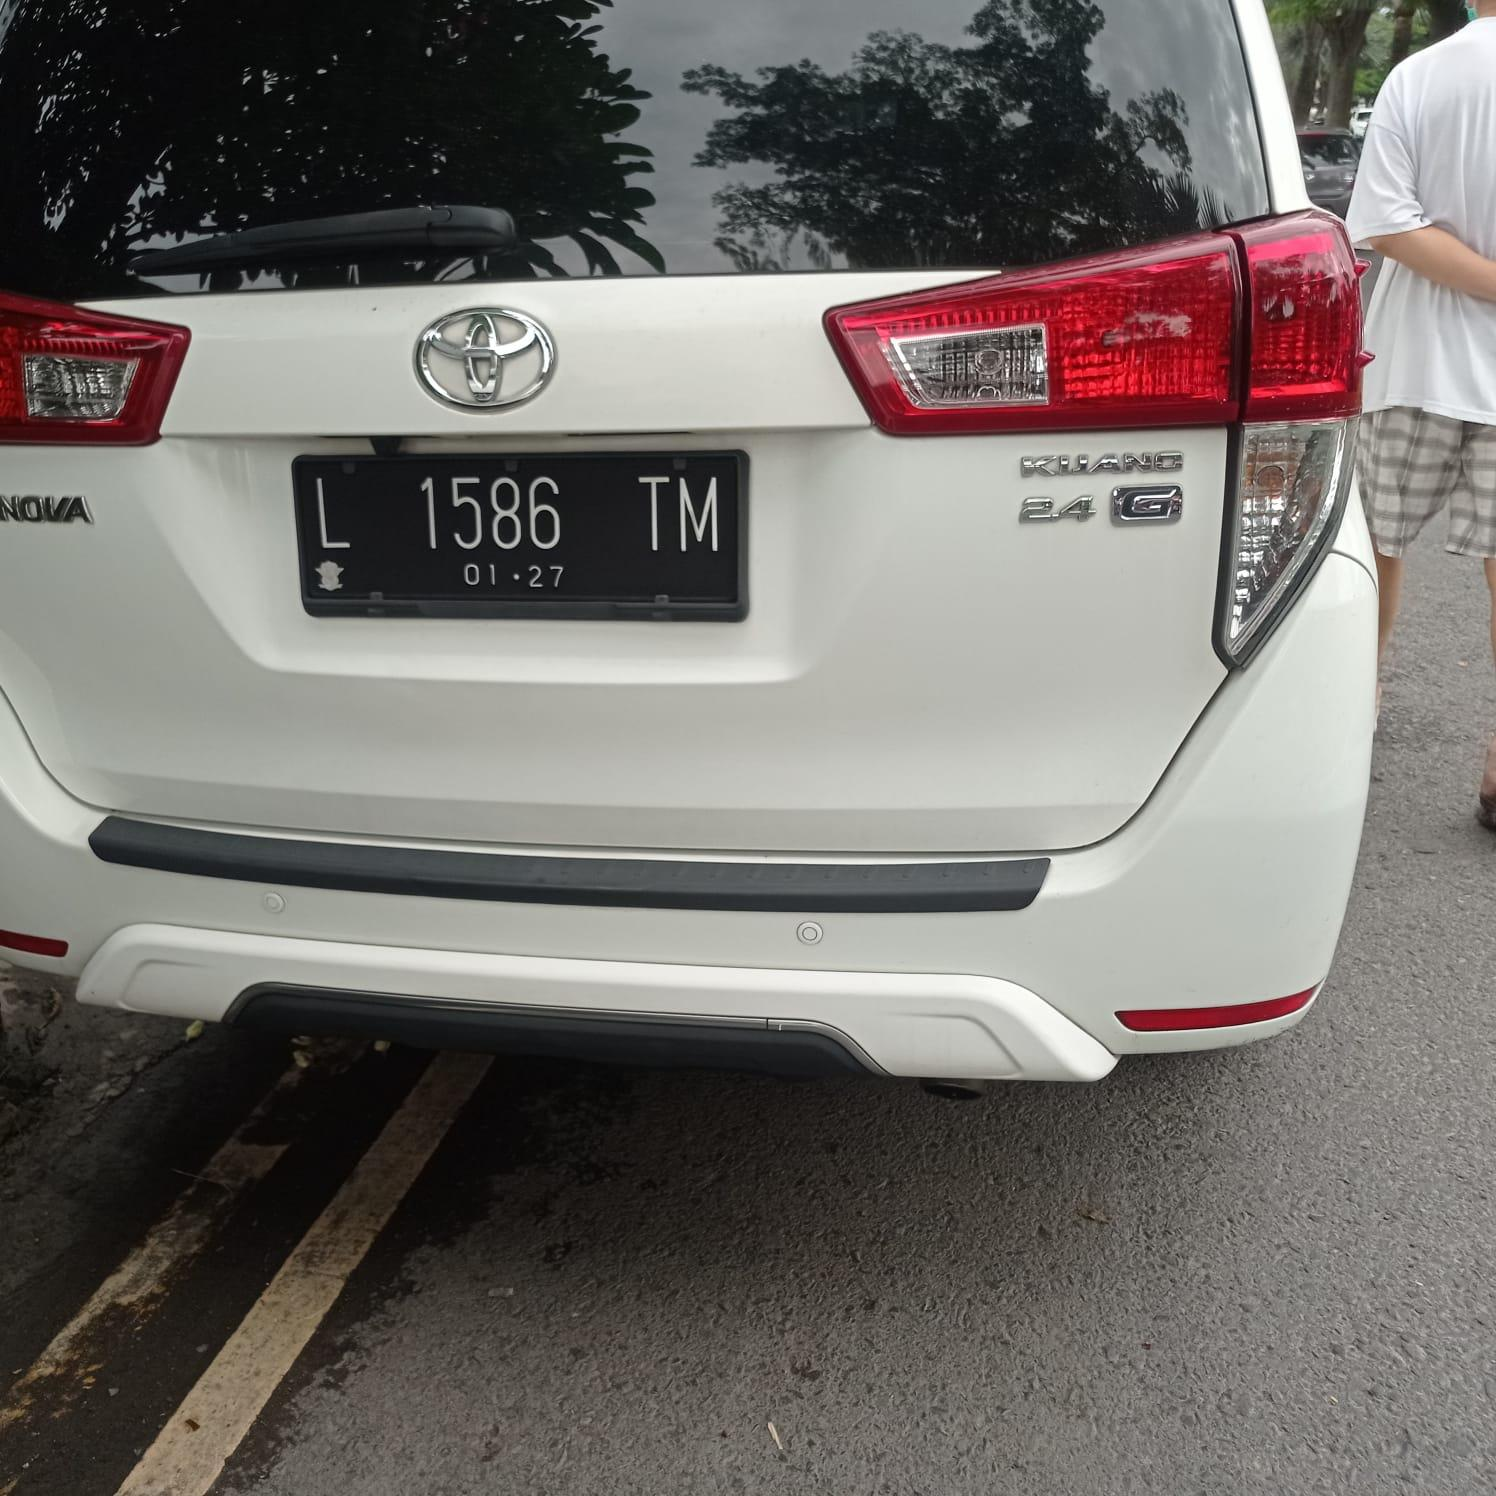plat: (289, 456, 741, 600)
